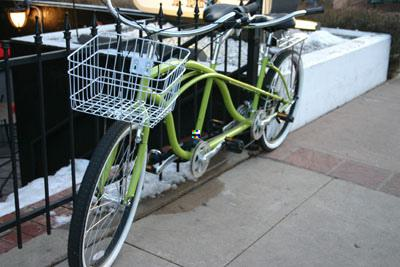car: (67, 1, 325, 267)
